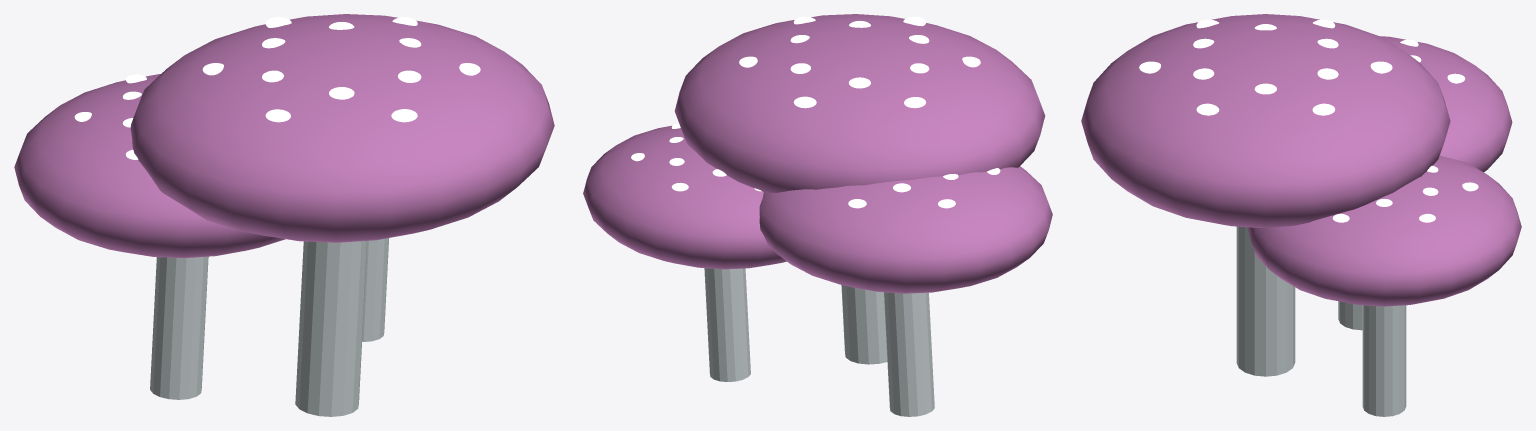
Rendered from mushroom-cluster.glb.
3 views of the same model, side by side, from view 1: azimuth 30°, elevation 25°; view 2: azimuth 150°, elevation 25°; view 3: azimuth 270°, elevation 25° (orthographic). The views are drawn at different scales.
Visible parts, largest first — view 1: Mushroom crown.004, Mushroom crown.002, Mushroom stalk.004, Mushroom stalk.002, Mushroom stalk.003; view 2: Mushroom crown.004, Mushroom crown.002, Mushroom crown.003, Mushroom stalk.002, Mushroom stalk.003, Mushroom stalk.004; view 3: Mushroom crown.004, Mushroom crown.003, Mushroom crown.002, Mushroom stalk.004, Mushroom stalk.003, Mushroom stalk.002.
Part boxes in pixels (x1,y1,x2,y2): Mushroom crown.004: [130, 14, 554, 242]; Mushroom crown.002: [14, 74, 285, 258]; Mushroom stalk.004: [295, 241, 367, 416]; Mushroom stalk.002: [150, 256, 208, 399]; Mushroom stalk.003: [362, 238, 388, 341]; Mushroom crown.004: [674, 14, 1045, 192]; Mushroom crown.002: [759, 166, 1052, 293]; Mushroom crown.003: [583, 125, 786, 269]; Mushroom stalk.002: [884, 292, 934, 416]; Mushroom stalk.003: [704, 268, 750, 381]; Mushroom stalk.004: [841, 285, 887, 364]; Mushroom crown.004: [1081, 14, 1450, 227]; Mushroom crown.003: [1247, 155, 1521, 306]; Mushroom crown.002: [1379, 36, 1512, 172]; Mushroom stalk.004: [1236, 226, 1295, 376]; Mushroom stalk.003: [1362, 305, 1406, 416]; Mushroom stalk.002: [1338, 301, 1362, 330].
Bounding box in the file's own units: 3.47 × 2.37 × 2.97.
